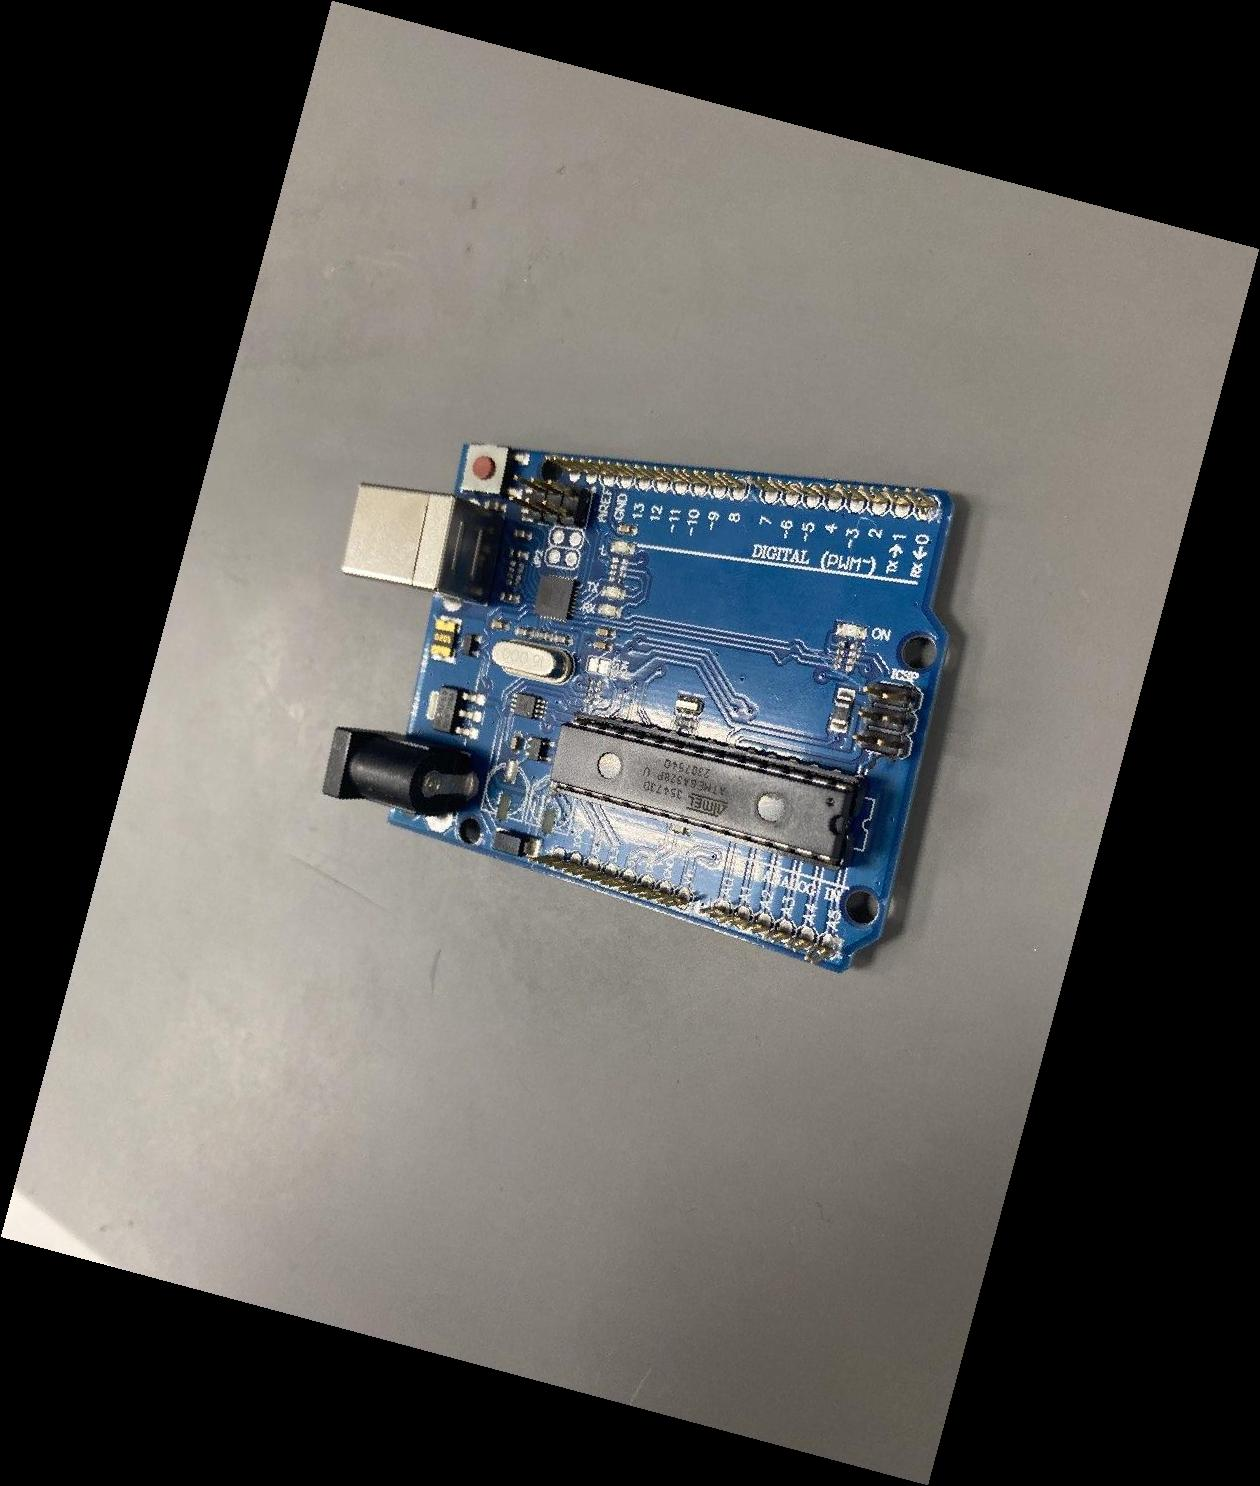ATmega328 chip: (550, 712, 862, 871)
Arduino board: (321, 441, 956, 975)
USB: (339, 482, 506, 609)
